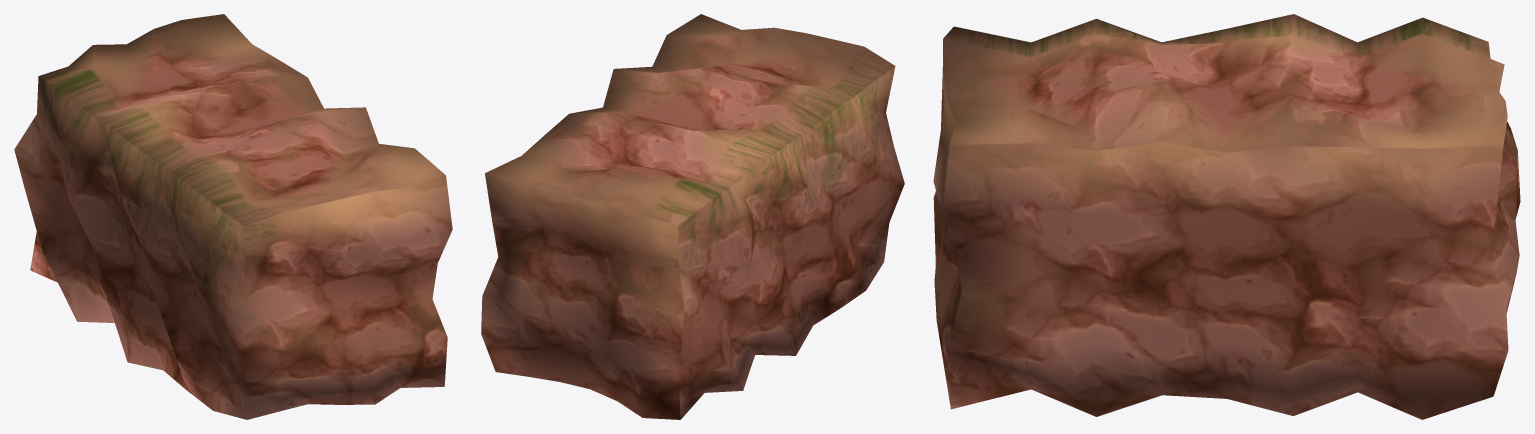
File: styled-wall.glb
The picture shows the model from 3 angles, left to right: view 1: azimuth 30°, elevation 25°; view 2: azimuth 150°, elevation 25°; view 3: azimuth 270°, elevation 25°; orthographic projection. The views are drawn at different scales.
Visible parts, largest first — view 1: styledwall-col; view 2: styledwall-col; view 3: styledwall-col.
Boxes of the visible parts, left/top/right/bottom form: styledwall-col: left=14, top=14, right=452, bottom=419; styledwall-col: left=481, top=14, right=904, bottom=419; styledwall-col: left=933, top=14, right=1520, bottom=419.
Bounding box in the file's own units: 5.33 × 5.33 × 9.61.
1 material, 1 textured.
